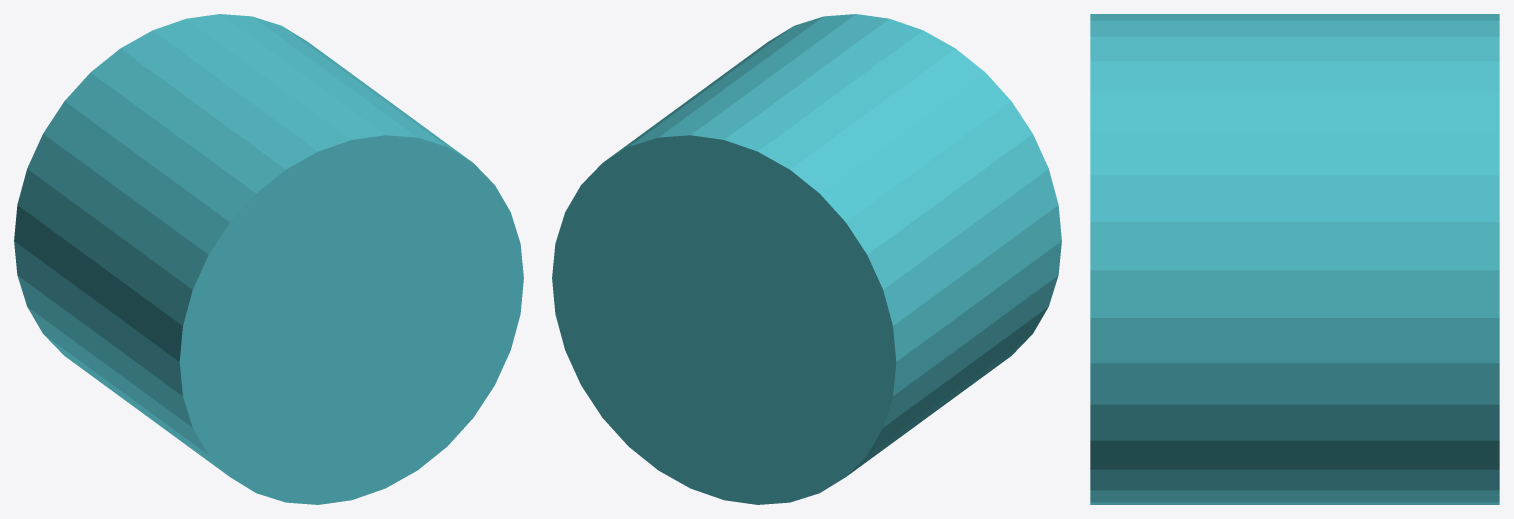
File: hip-bracket.glb
3 renders of one model, left to right at view 1: azimuth 30°, elevation 25°; view 2: azimuth 150°, elevation 25°; view 3: azimuth 270°, elevation 25°, orthographic. The views are drawn at different scales.
Parts seen in each view (by area): view 1: world; view 2: world; view 3: world.
Boxes of the visible parts, x1,y1,x2,y2 form: world: (14, 14, 523, 504); world: (552, 14, 1061, 504); world: (1090, 14, 1499, 504).
Bounding box in the file's own units: 24 × 24 × 20.
